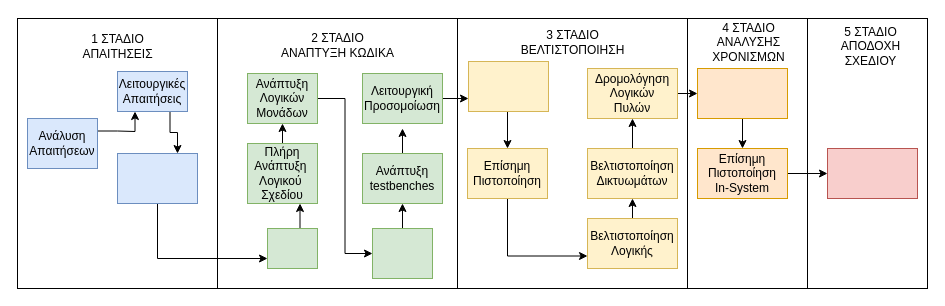
This 945x306 diagram has some shape labels left out. Each missing label, with the centre of its shape:
"Ανάλυση Χρονισμών" goes at pixel 742 93.
"Ανάπτυξη HDL Κώδικα" goes at pixel 402 253.
"Αποδεκτό Σχέδιο" goes at pixel 872 173.
"Μη Λειτουργικές Απαιτήσεις" goes at pixel 157 178.
"Πρώτος Έλενχος" goes at pixel 292 248.
"Σύνθεση Λογικής" goes at pixel 508 86.
